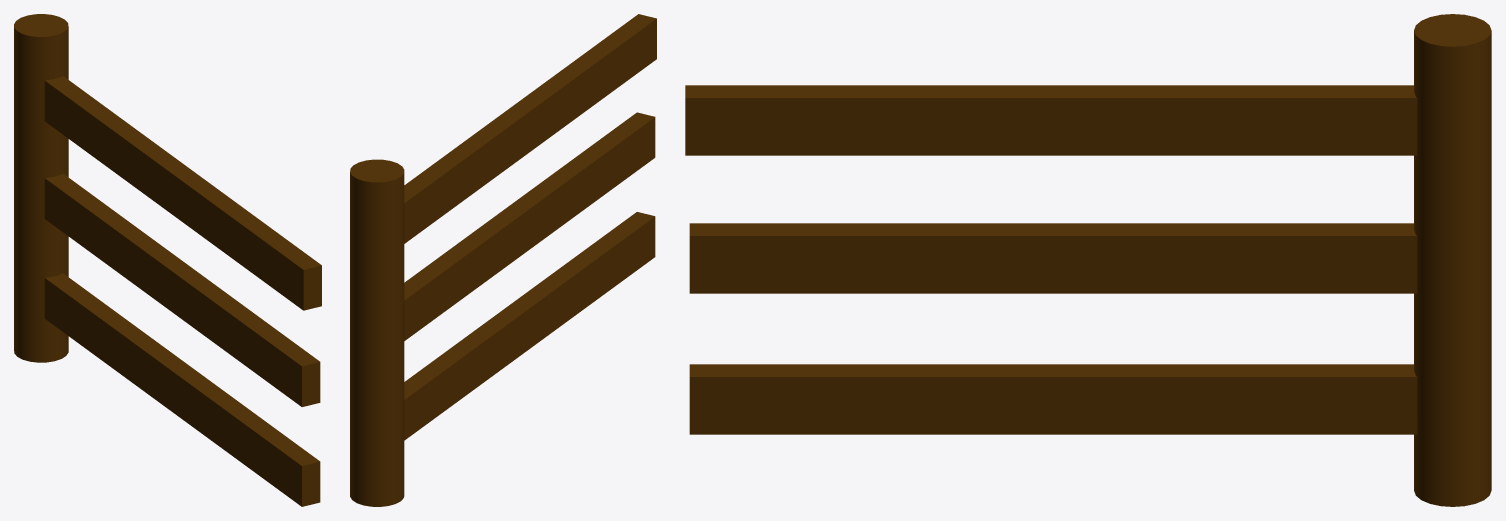
Rendered from Fence Piece.fbx.
3 views of the same model, side by side, from view 1: azimuth 30°, elevation 25°; view 2: azimuth 150°, elevation 25°; view 3: azimuth 270°, elevation 25° (orthographic). The views are drawn at different scales.
Parts seen in each view (by area): view 1: pCube1, pCube2, pCube3, pCylinder1; view 2: pCylinder1, pCube1, pCube2, pCube3; view 3: pCube1, pCube2, pCube3, pCylinder1.
Boxes of the visible parts, <box> form: pCube1: <box>44,76,321,310</box>; pCube2: <box>44,173,320,406</box>; pCube3: <box>44,273,320,506</box>; pCylinder1: <box>14,14,68,362</box>; pCylinder1: <box>350,159,404,506</box>; pCube1: <box>404,14,656,243</box>; pCube2: <box>404,112,655,340</box>; pCube3: <box>404,212,655,440</box>; pCube1: <box>685,85,1417,155</box>; pCube2: <box>689,223,1417,293</box>; pCube3: <box>689,364,1417,434</box>; pCylinder1: <box>1414,14,1491,506</box>.
Bounding box in the file's own units: 0.7327 × 4.8 × 7.61.
